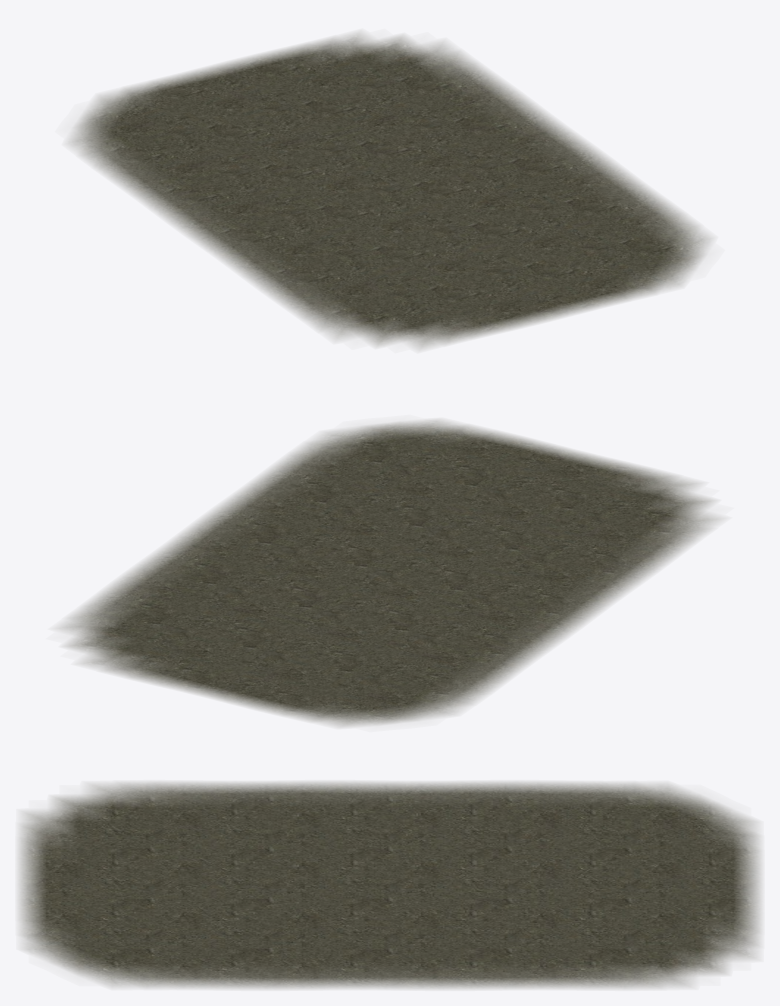
File: river_ford.glb
3 renders of one model, top to bottom at view 1: azimuth 30°, elevation 25°; view 2: azimuth 150°, elevation 25°; view 3: azimuth 270°, elevation 25°, orthographic. The views are drawn at different scales.
Parts seen in each view (by area): view 1: river_ford; view 2: river_ford; view 3: river_ford.
Part boxes in pixels (box(x1,y1,x2,y2)): river_ford: box(68, 32, 711, 349); river_ford: box(58, 420, 721, 726); river_ford: box(19, 782, 760, 988).
Bounding box in the file's own units: 12 × 0.02 × 18.
Materials: 1 (1 with a texture image).
